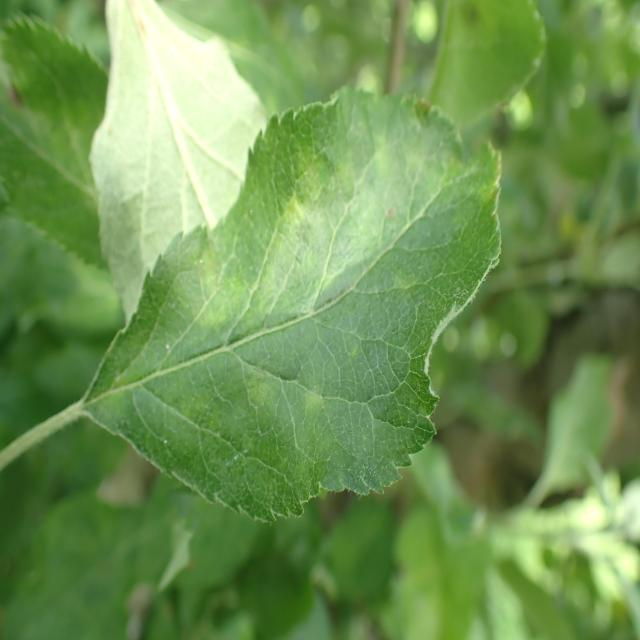scab: (107, 120, 505, 470)
